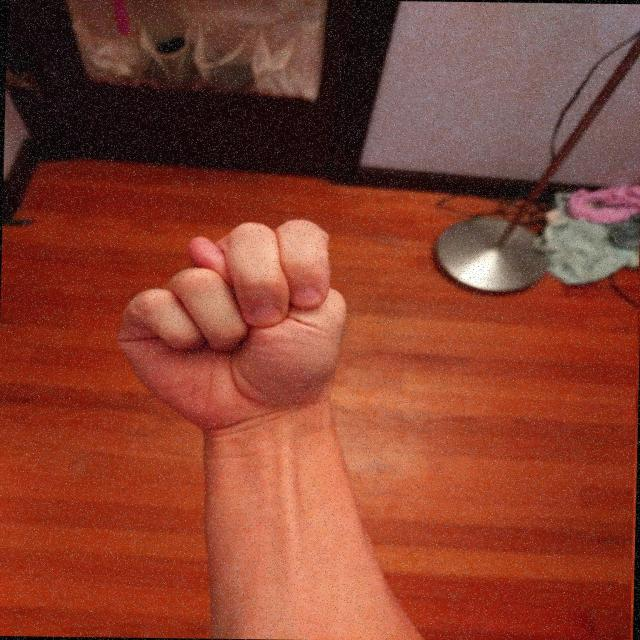N: (106, 214, 357, 437)
